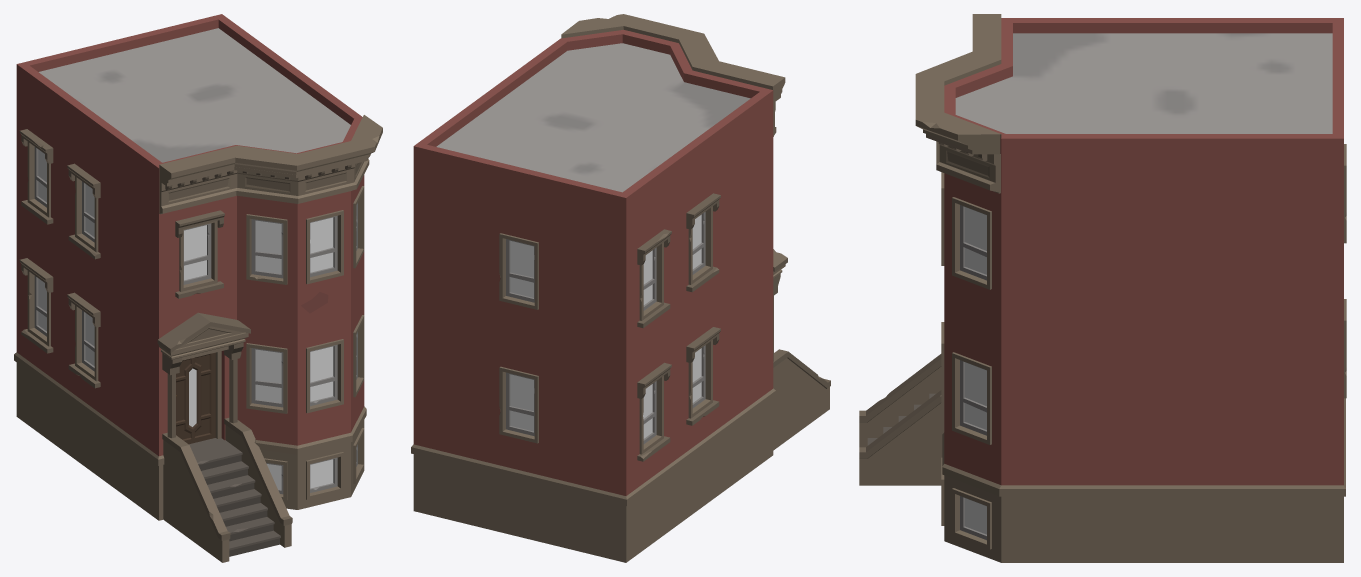
Rendered from SM_Bldg_City_Apartment_T2_2Floor_Corner.fbx.
3 renders of one model, left to right at view 1: azimuth 30°, elevation 25°; view 2: azimuth 150°, elevation 25°; view 3: azimuth 270°, elevation 25°, orthographic. The views are drawn at different scales.
Parts seen in each view (by area): view 1: SM_Bldg_City_Apartment_T2_2Floor_Corner, SM_Bldg_City_Apartment_T2_2Floor_Corner_Glass, SM_Bldg_City_Apartment_T2_2Floor_Corner_Door; view 2: SM_Bldg_City_Apartment_T2_2Floor_Corner, SM_Bldg_City_Apartment_T2_2Floor_Corner_Glass; view 3: SM_Bldg_City_Apartment_T2_2Floor_Corner, SM_Bldg_City_Apartment_T2_2Floor_Corner_Glass.
Boxes of the visible parts, bbox=[...] form: SM_Bldg_City_Apartment_T2_2Floor_Corner: bbox=[14, 14, 382, 562]; SM_Bldg_City_Apartment_T2_2Floor_Corner_Glass: bbox=[38, 149, 333, 489]; SM_Bldg_City_Apartment_T2_2Floor_Corner_Door: bbox=[176, 352, 215, 444]; SM_Bldg_City_Apartment_T2_2Floor_Corner: bbox=[411, 14, 830, 562]; SM_Bldg_City_Apartment_T2_2Floor_Corner_Glass: bbox=[510, 214, 701, 438]; SM_Bldg_City_Apartment_T2_2Floor_Corner: bbox=[859, 14, 1346, 562]; SM_Bldg_City_Apartment_T2_2Floor_Corner_Glass: bbox=[965, 207, 986, 534].
Bounding box in the file's own units: 522 × 828 × 854.
